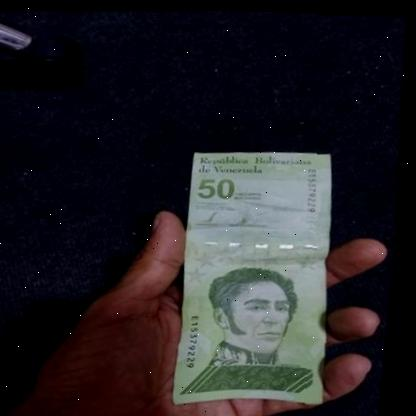fifty-front-vef: (165, 141, 351, 410)
